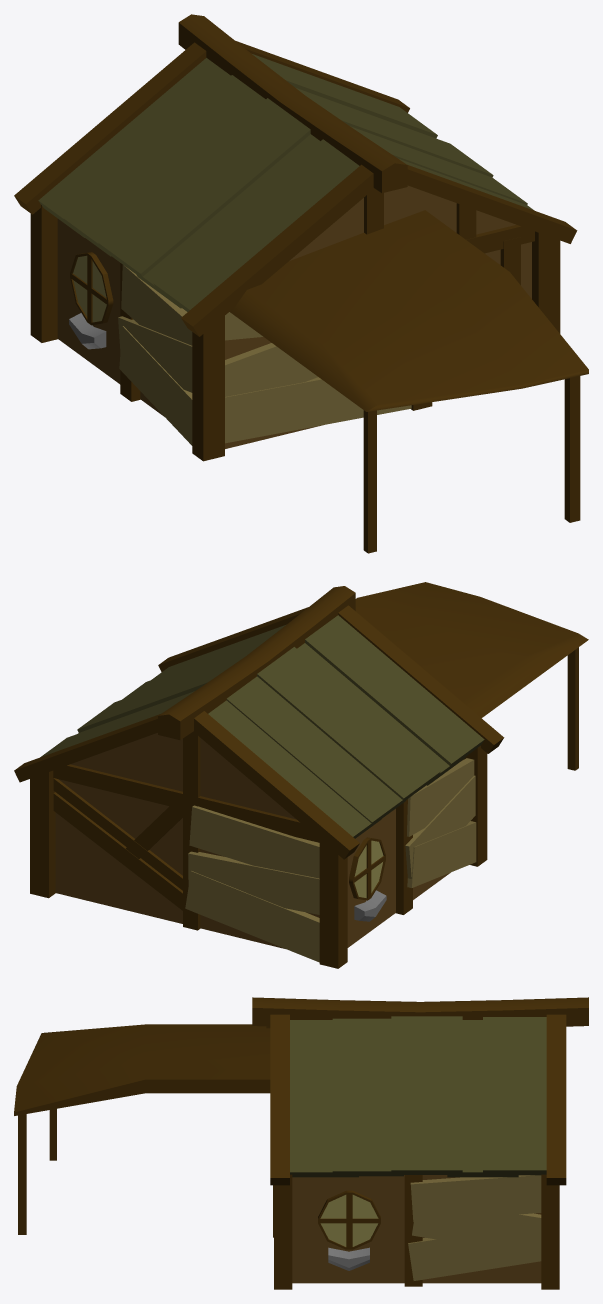
The model's file is Mesh_Farm_Meduim_Alt.fbx.
3 views of the same model, one above another, from view 1: azimuth 30°, elevation 25°; view 2: azimuth 150°, elevation 25°; view 3: azimuth 270°, elevation 25° (orthographic). The views are drawn at different scales.
Parts seen in each view (by area): view 1: Farm_Meduim_Alt; view 2: Farm_Meduim_Alt; view 3: Farm_Meduim_Alt.
Boxes of the visible parts, x1,y1,x2,y2 form: Farm_Meduim_Alt: [14, 14, 588, 553]; Farm_Meduim_Alt: [14, 582, 588, 968]; Farm_Meduim_Alt: [14, 997, 588, 1289].
Bounding box in the file's own units: 887 × 579 × 1381.
Materials: 1 (1 with a texture image).
